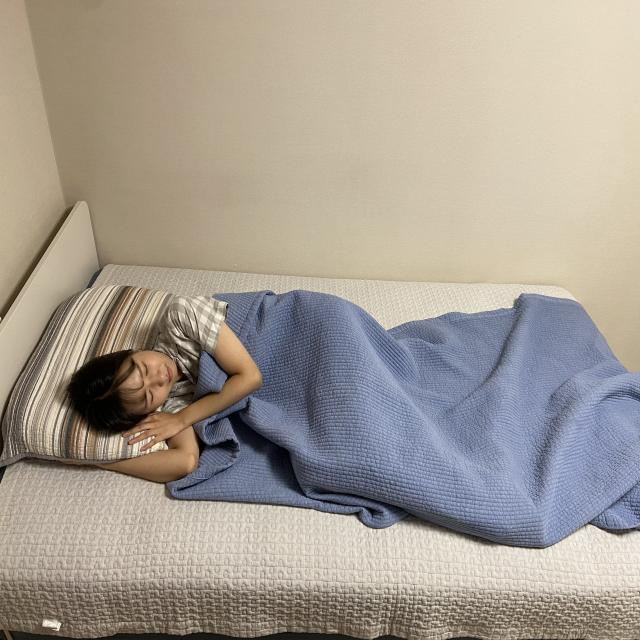sleeping-person: (40, 264, 640, 540)
